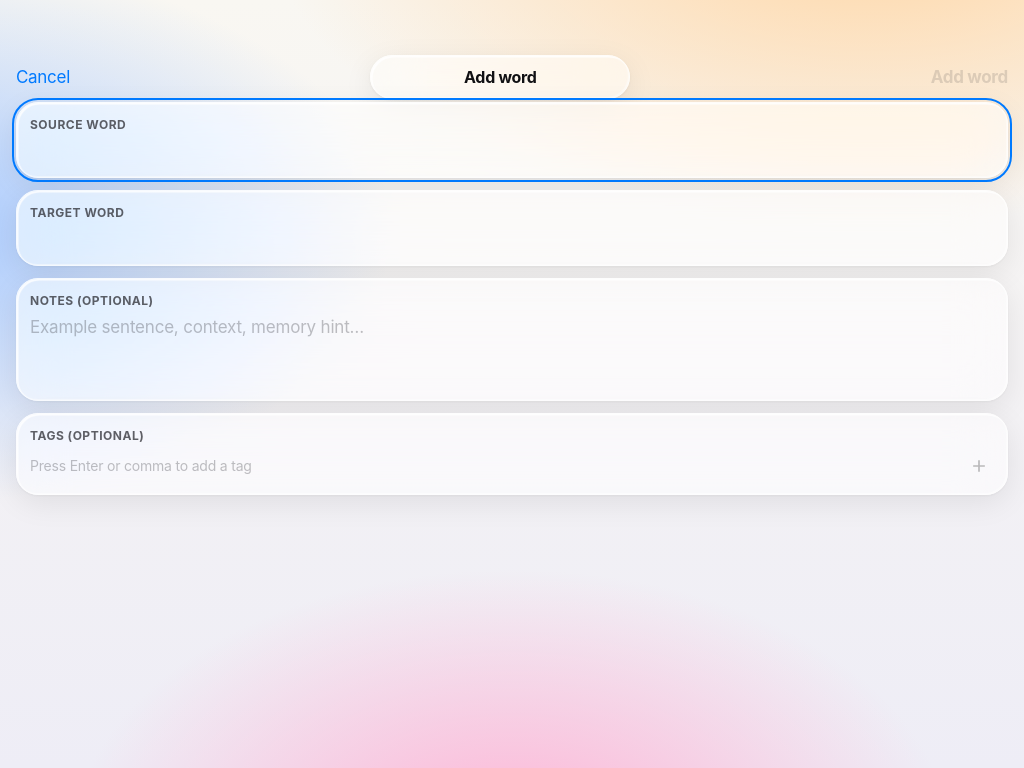
WordFormDialog › should enable submit button when source and target are filled
Type "cat" into the field named "Source word". click: (512, 152)
box: [30, 140, 994, 164]
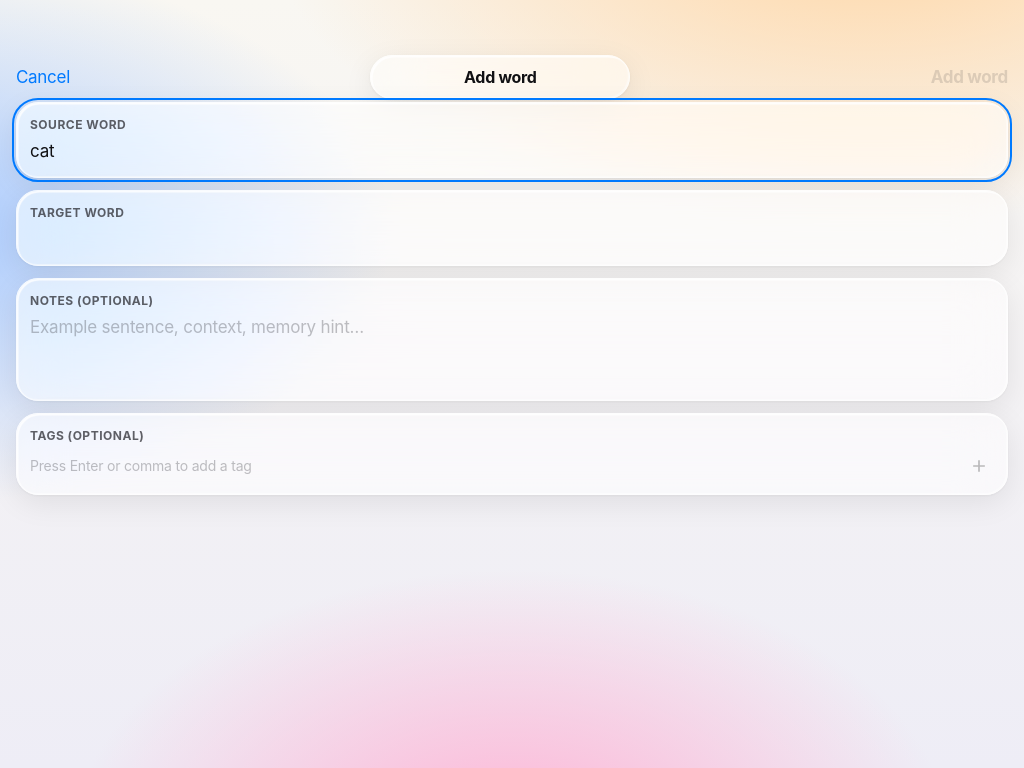
Type "kaķis" into the field named "Target word". click: (512, 240)
box: [30, 228, 994, 252]
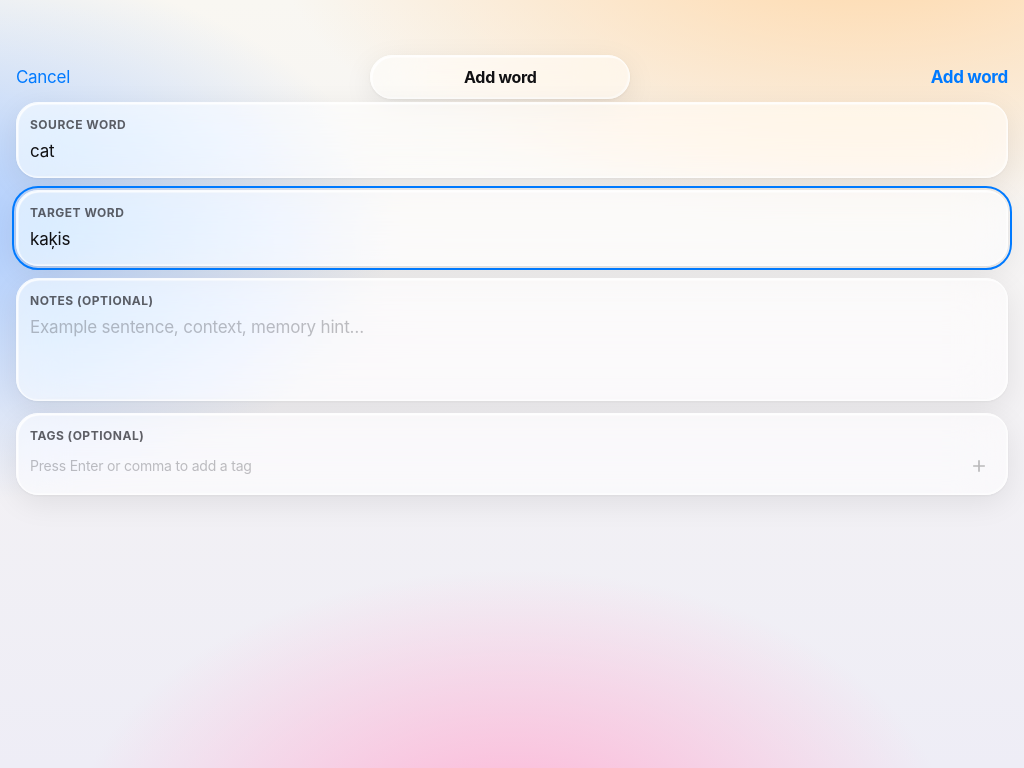
Check: the button "Add word" is enabled, box [931, 64, 1008, 90]
